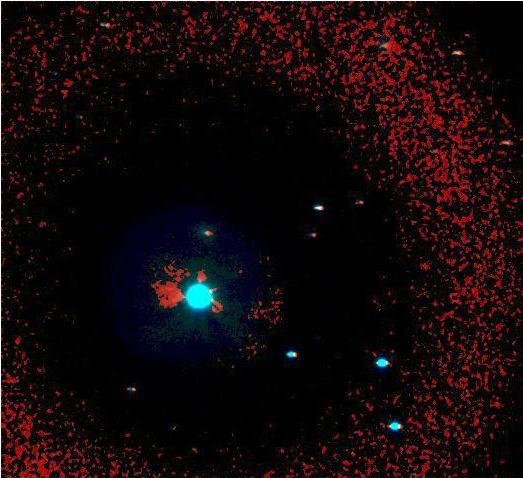star: (398, 205, 428, 235)
